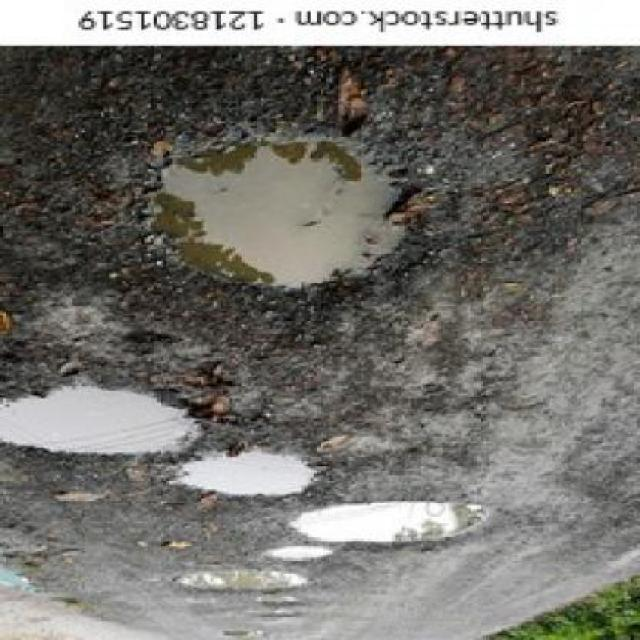pothole: (110, 118, 493, 320), (3, 379, 226, 476), (273, 494, 502, 562), (150, 437, 342, 505)
